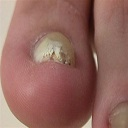Nail Fungal Infection: (40, 45, 72, 68)
